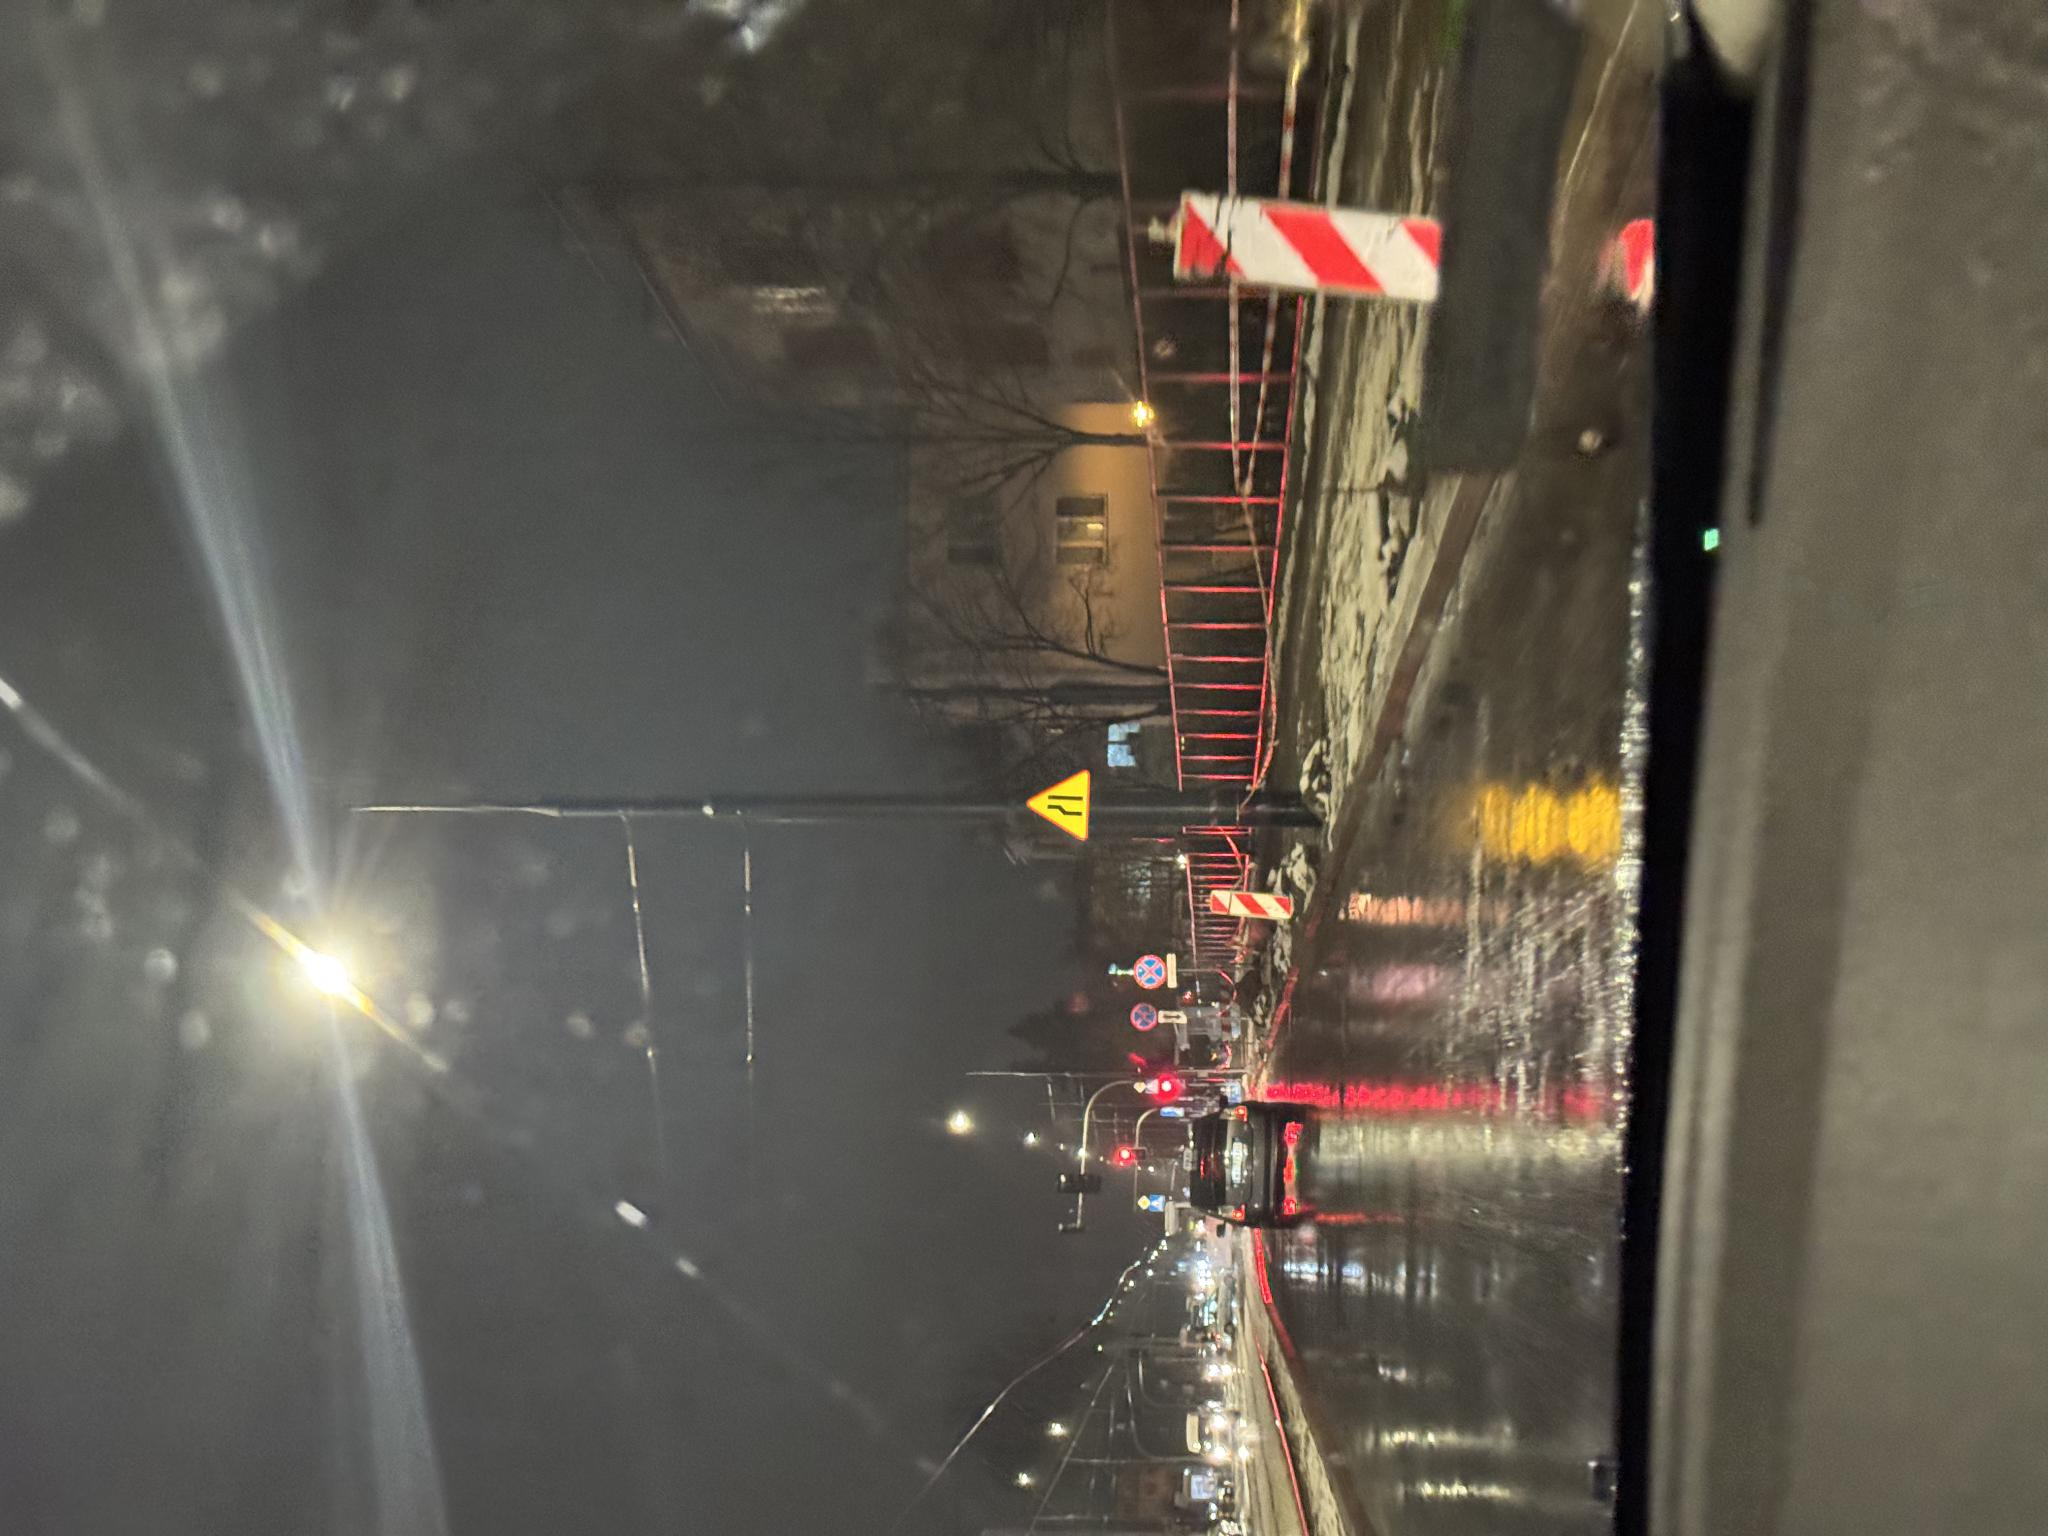information: (324, 1149, 340, 1165), (442, 1146, 455, 1158)
other: (548, 1168, 582, 1176), (514, 1160, 524, 1186)
prohibitory: (547, 1133, 582, 1168), (505, 1129, 534, 1158)
warning: (695, 1023, 768, 1091), (326, 1137, 340, 1150), (443, 1133, 453, 1146)
